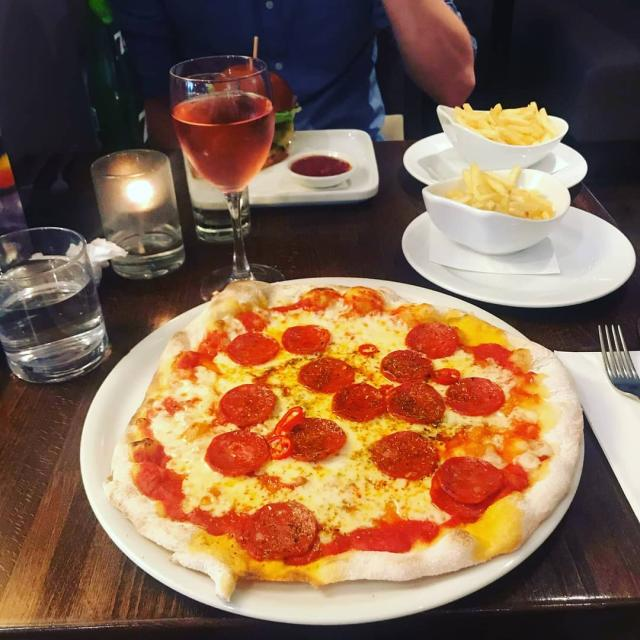pepperoni: (240, 494, 321, 564), (425, 454, 508, 511), (370, 426, 440, 482), (202, 428, 270, 479), (287, 413, 348, 462), (387, 376, 446, 426), (215, 381, 277, 428), (401, 317, 462, 359), (446, 375, 506, 417), (297, 354, 357, 394), (380, 342, 435, 384), (331, 383, 387, 422), (226, 328, 281, 367), (280, 321, 332, 355)
pizza: (107, 281, 582, 597)
